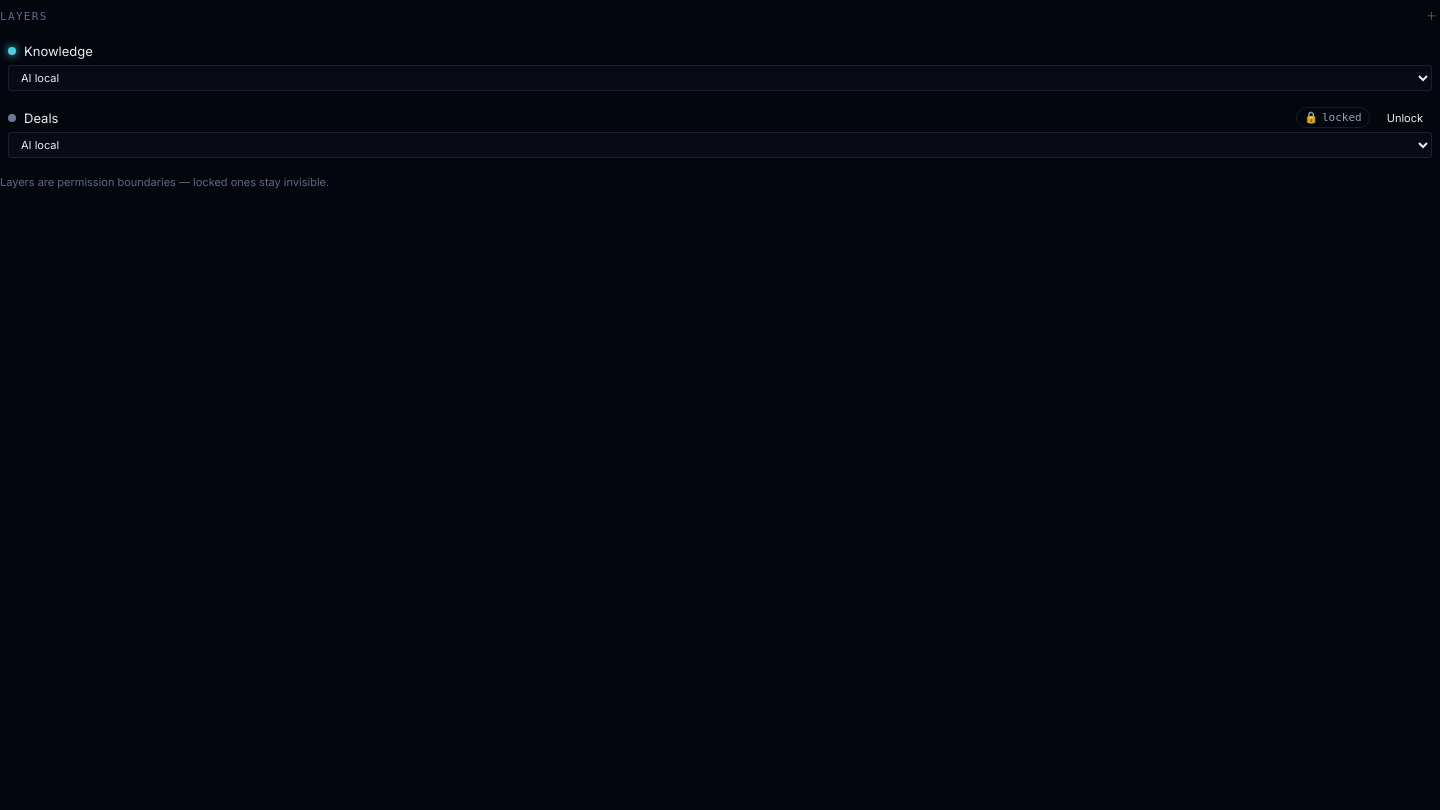
it: LayerPanel › reports a failed unlock without saying why it failed
This screenshot has width=1440, height=810.
Click the button "Unlock" at (1405, 118), box [1378,109,1432,127]
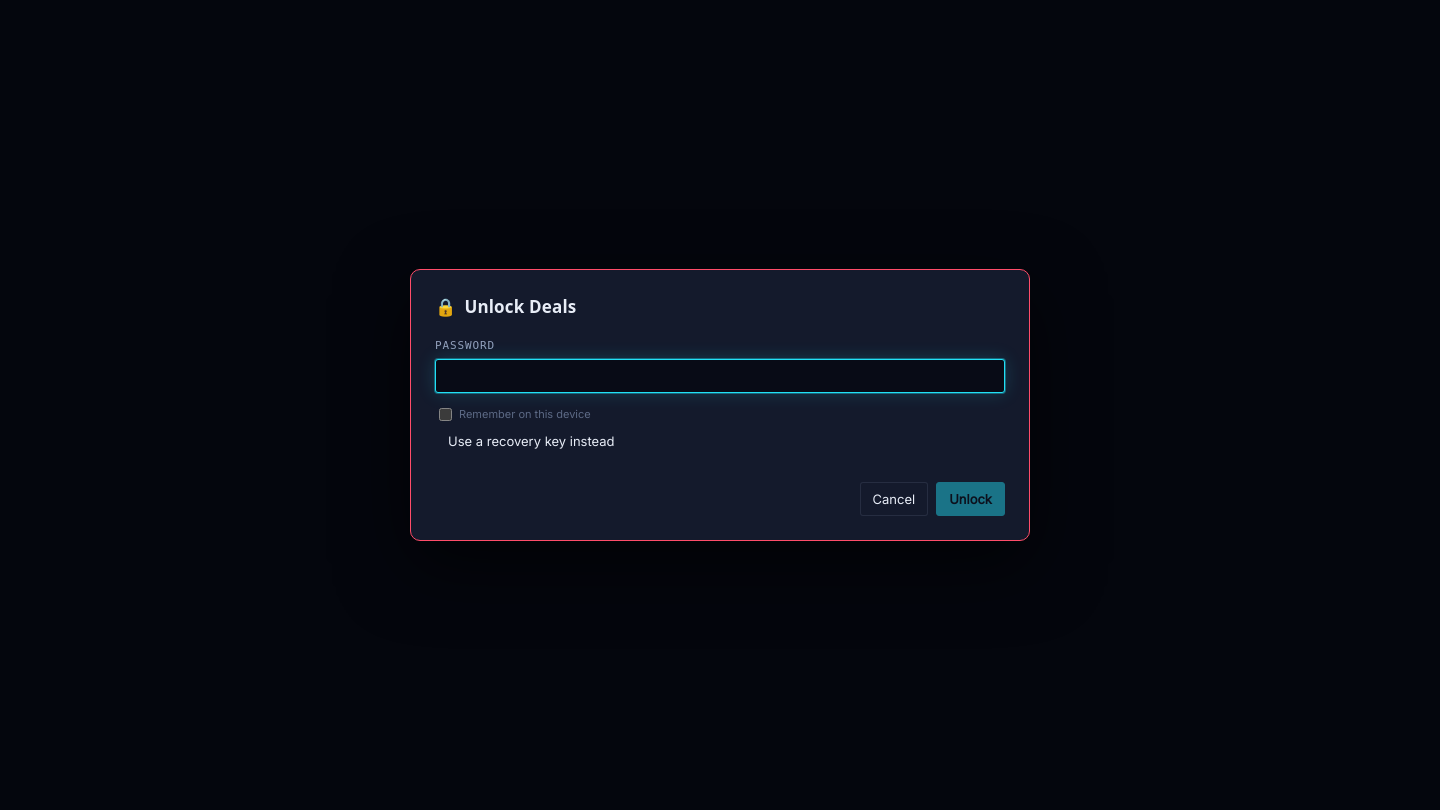
Type "wrong" into the password field named "Layer password" at (720, 376), box [435,359,1005,393]
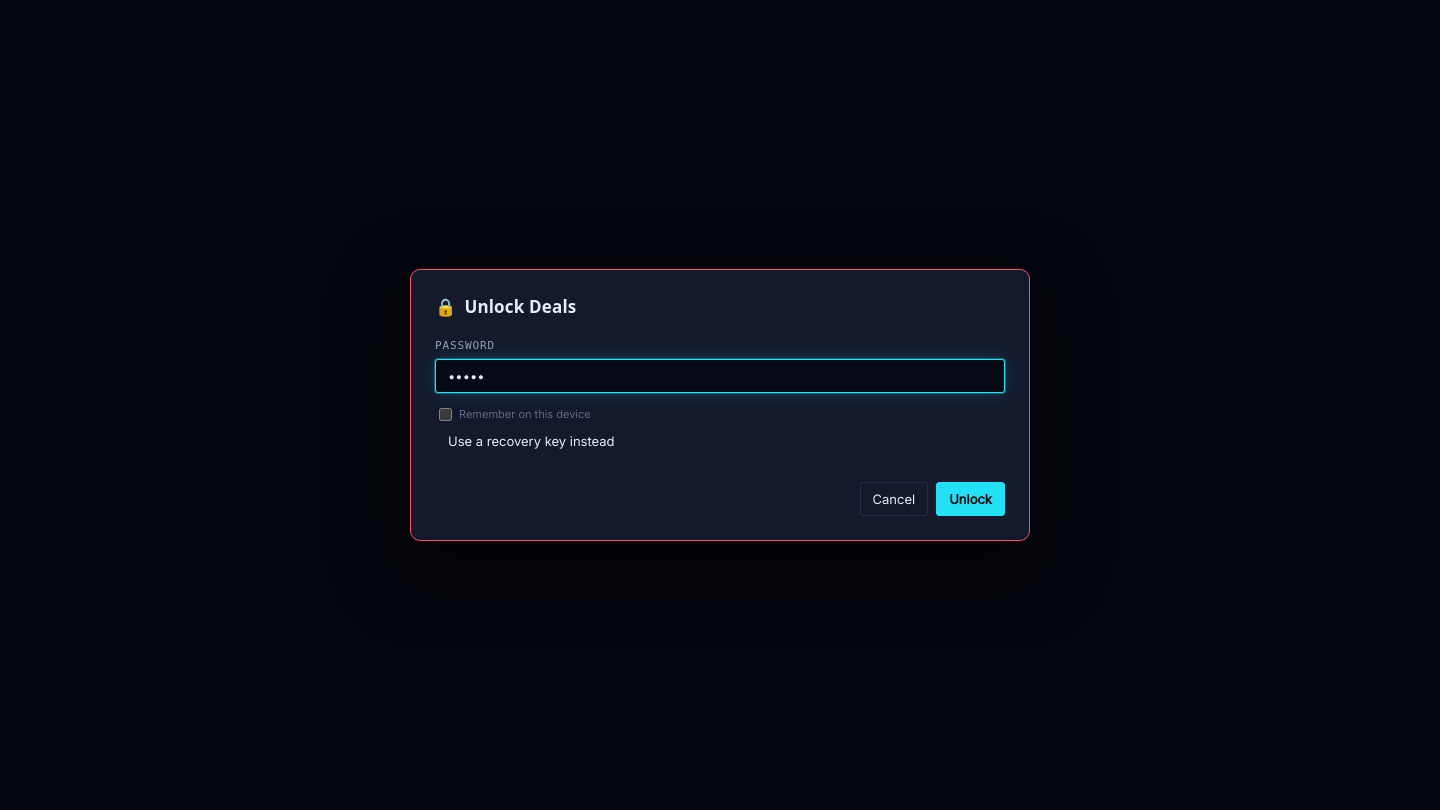
Click the button "Unlock" at (971, 499), box [936,482,1005,516]
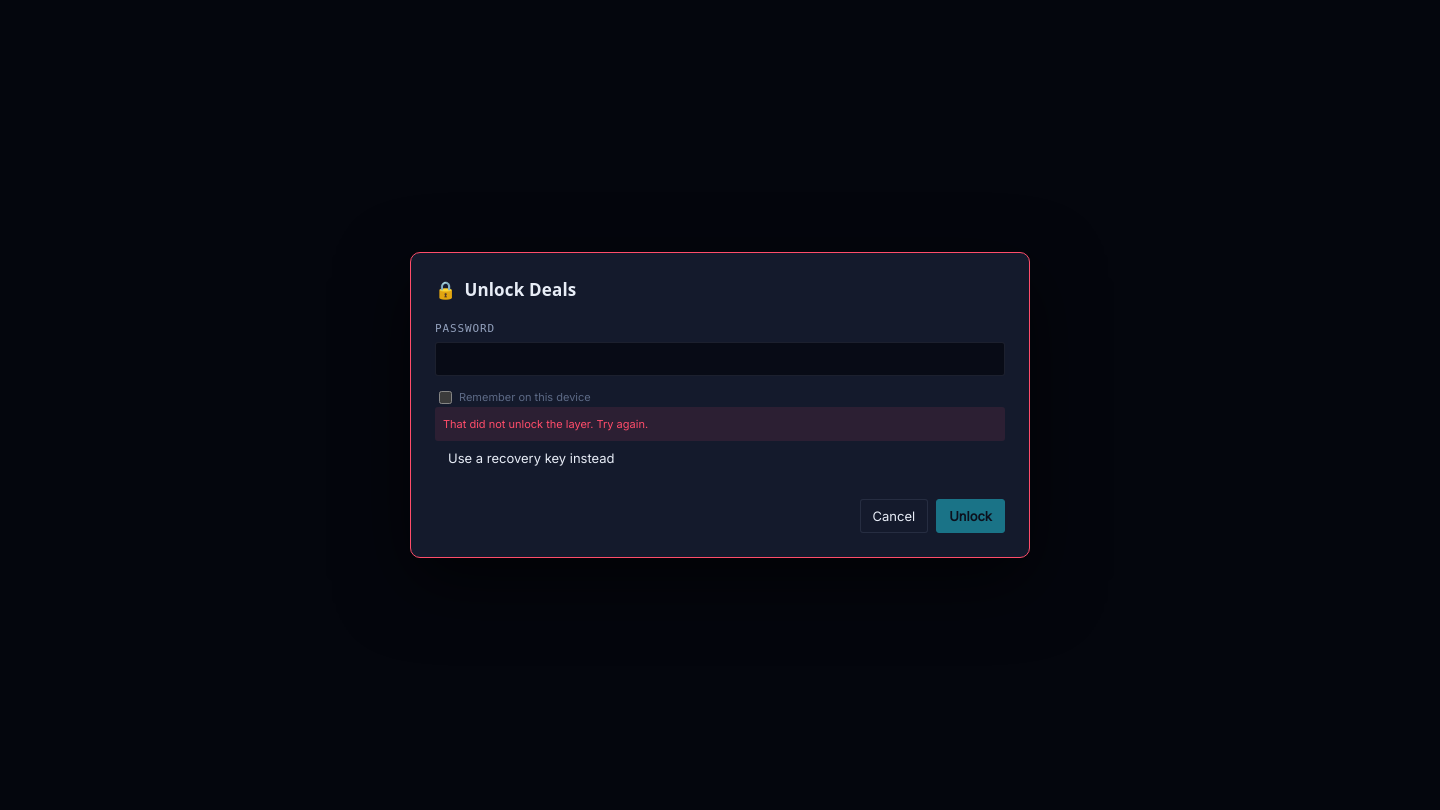
Expected: the message shows "did not unlock", [443,417,648,431]
